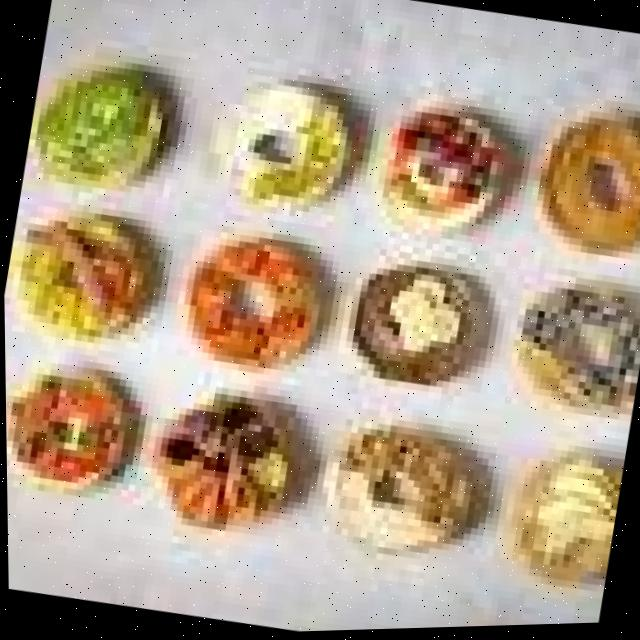Bagel: (149, 396, 313, 528), (187, 241, 317, 365), (382, 113, 513, 230), (231, 84, 352, 207), (540, 123, 640, 251)
